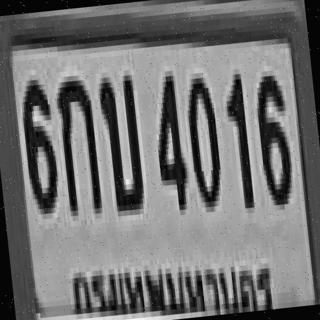A01: (52, 69, 100, 211)
A26: (95, 70, 144, 212)
N00: (182, 69, 222, 206)
N01: (221, 69, 252, 204)
N04: (147, 62, 188, 209)
N06: (17, 74, 59, 210), (252, 70, 293, 201)
P04: (66, 232, 277, 320)
